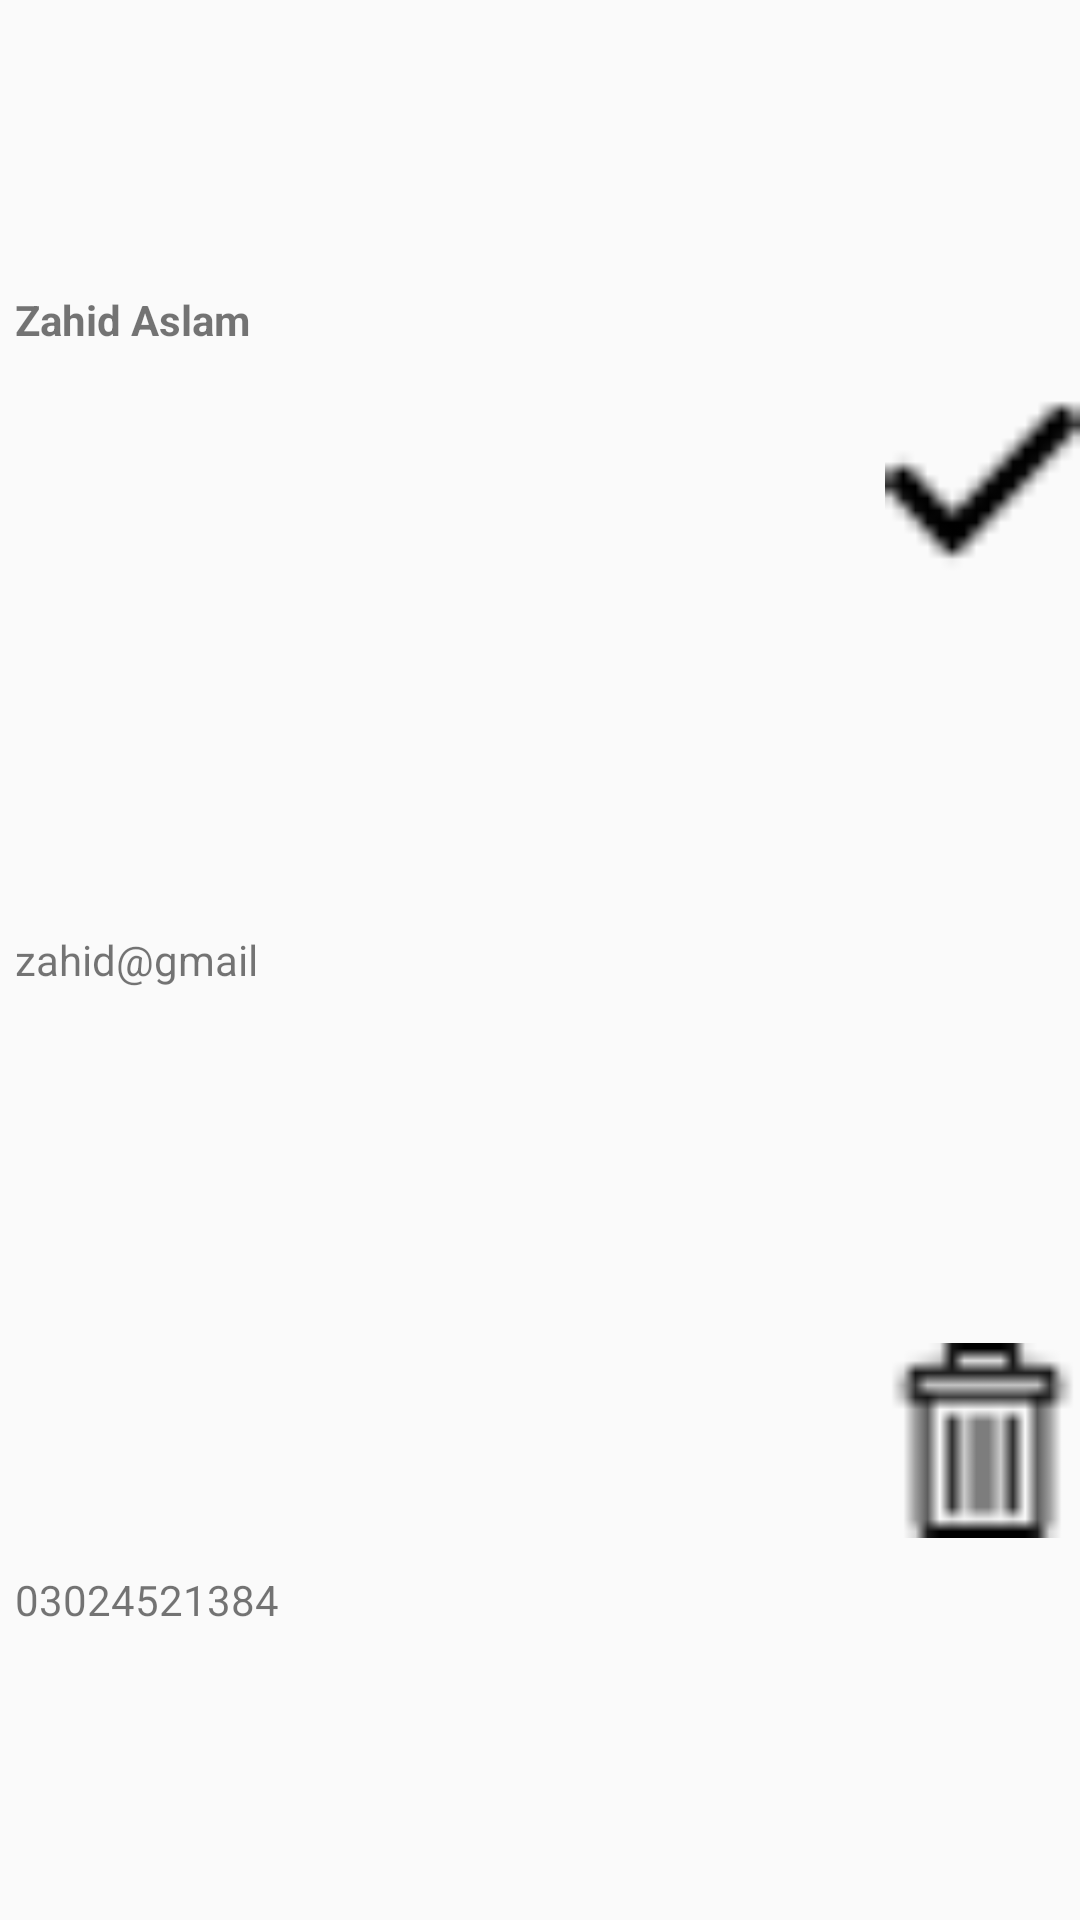

Screen size 1080x1920. Icon name, then its center in pixels as (x=x, y=y):
approved: (x=982, y=480)
clear: (x=982, y=1440)
